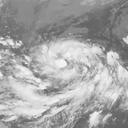cyclone: (32, 41, 101, 80)
